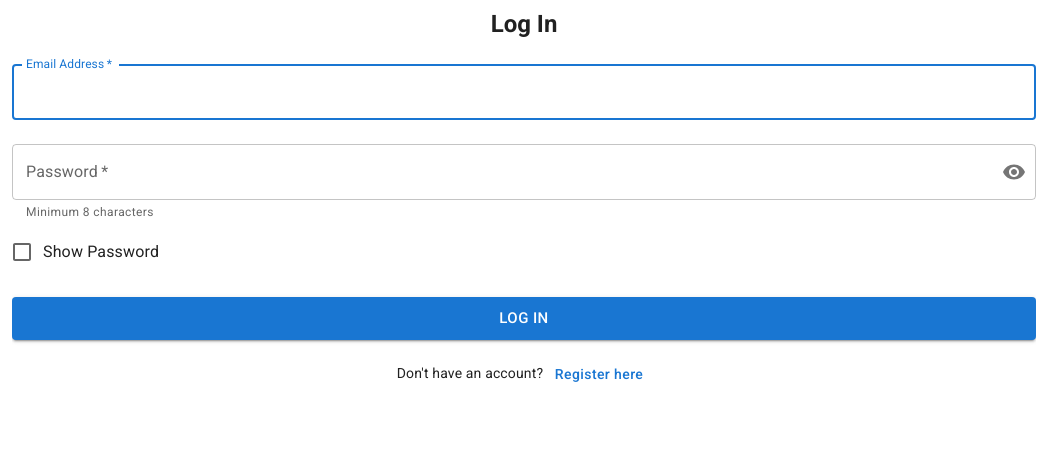
Test: authentication forms › displays server errors and toggles password visibility
Step 1. Click the button named "toggle password visibility" → (1014, 172), box [994, 152, 1034, 192]
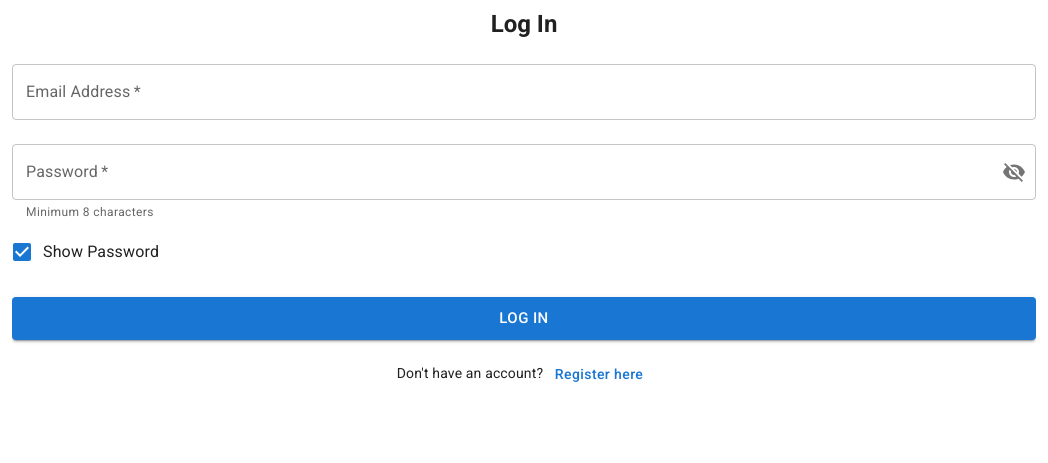
Step 2. Type "user@example.com" into the field labelled "Email Address *" → (524, 92), box [12, 64, 1036, 120]
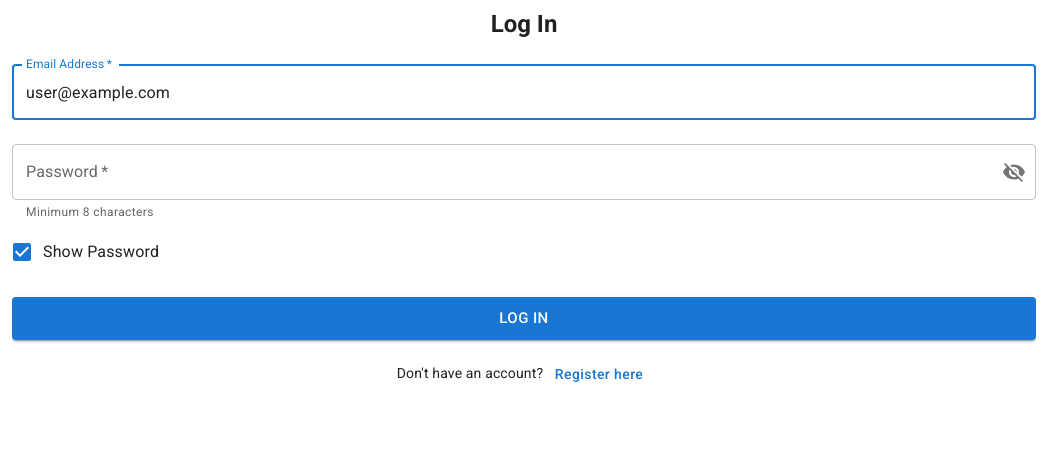
Step 3. Type "password123" into the field with id "login-password" → (499, 172), box [12, 144, 986, 200]
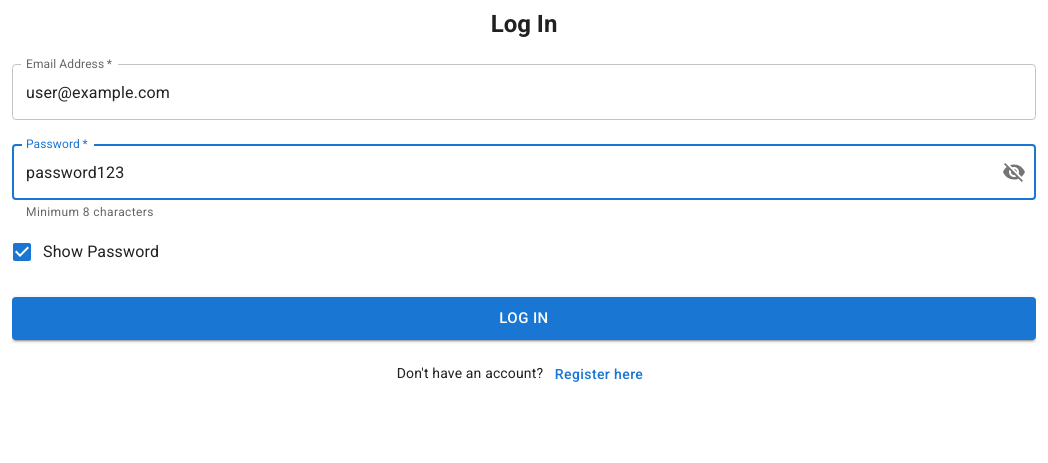
Step 4. Click the button "Log In" → (524, 318), box [12, 297, 1036, 340]
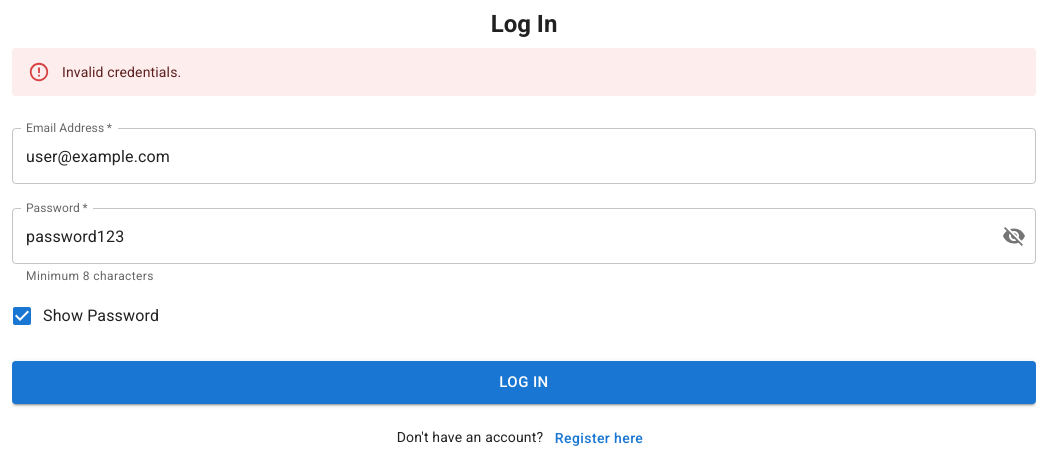
Check: the text "Invalid credentials." is shown, box [62, 64, 181, 80]
